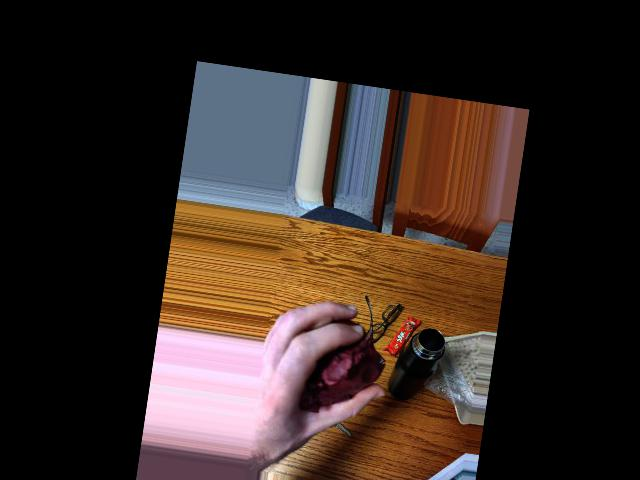onion: (296, 321, 380, 420)
